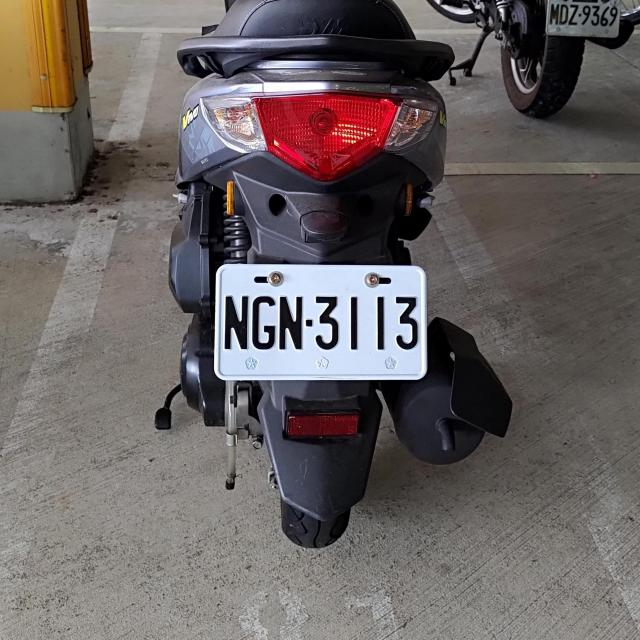W: (214, 263, 426, 379), (541, 0, 623, 41)
